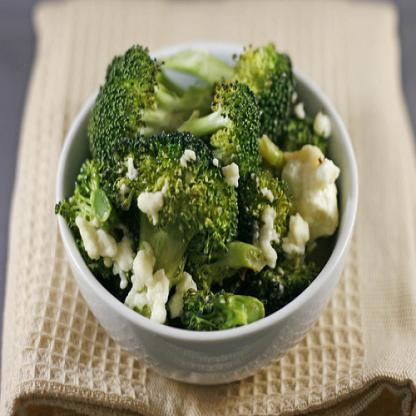broccoli: (54, 40, 346, 336)
